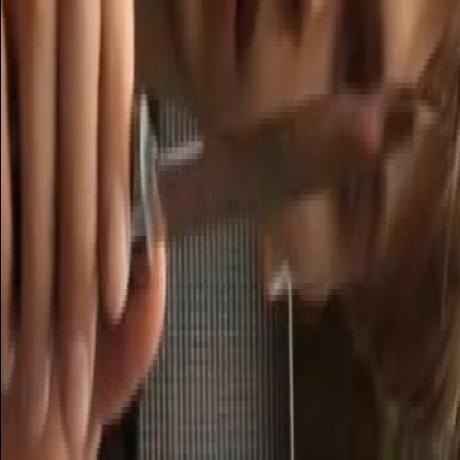weapon: (136, 69, 440, 249)
